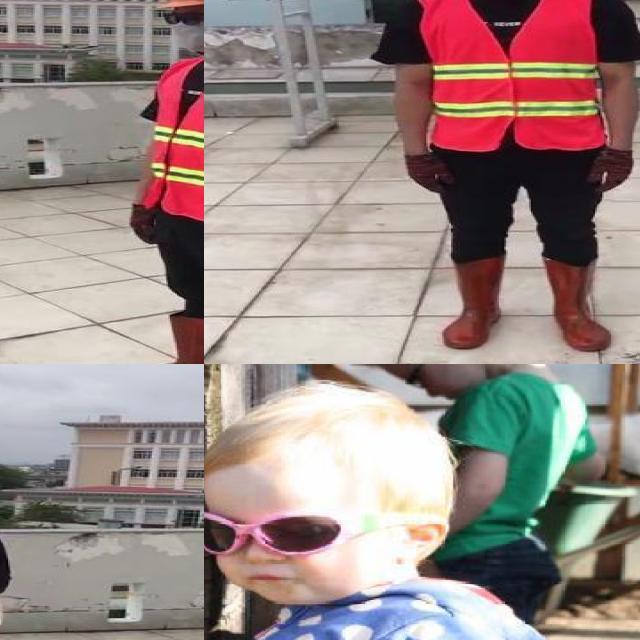boots: (545, 254, 611, 353), (444, 254, 501, 351), (125, 317, 204, 364)
face_mask: (159, 5, 204, 53)
face_nomask: (393, 364, 467, 405)
glasses: (204, 474, 433, 549), (156, 9, 204, 30)
hand_glove: (405, 152, 458, 195), (588, 149, 632, 193), (129, 204, 157, 246)
head_nohelmet: (204, 382, 424, 460)
person: (371, 0, 640, 361), (204, 403, 521, 640), (366, 364, 581, 624), (106, 0, 204, 364)
vest: (420, 0, 607, 152), (143, 55, 204, 223)
